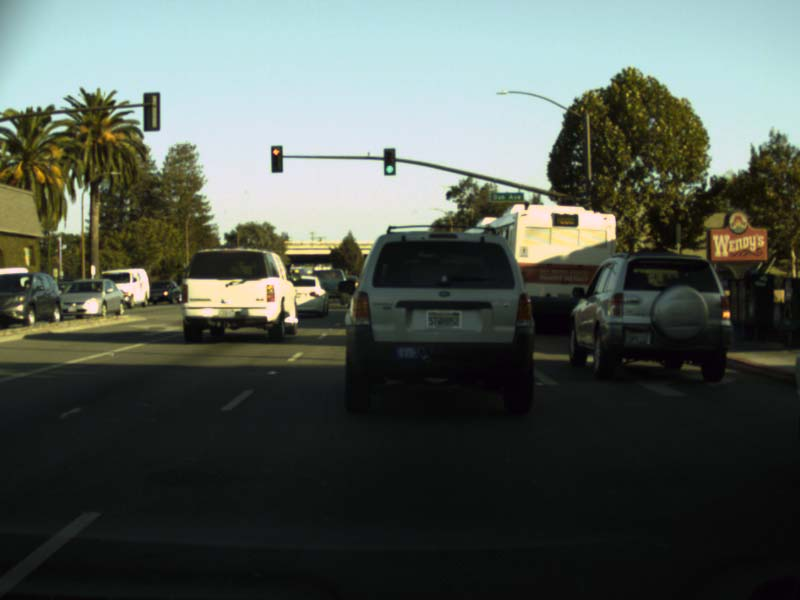Green: (384, 148, 395, 174)
Red: (270, 145, 283, 172)
